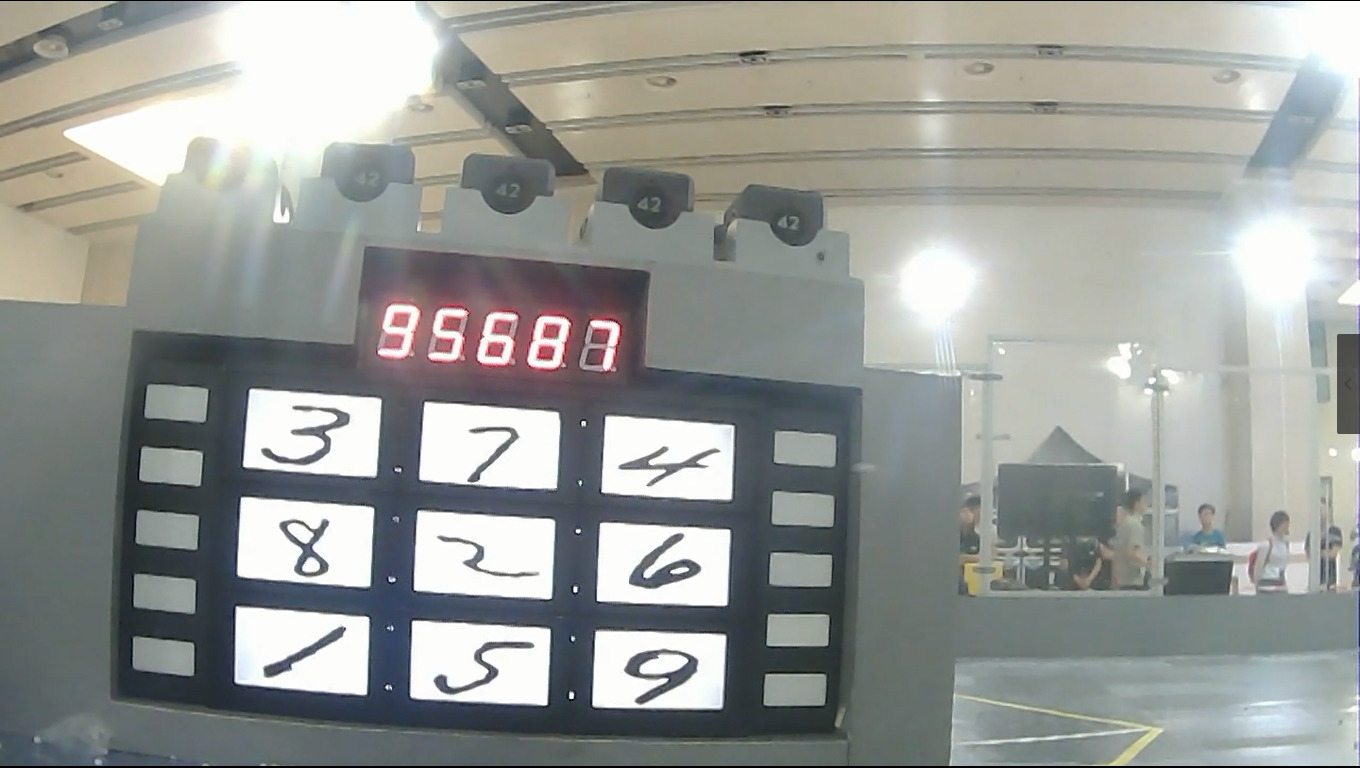box: (583, 162, 713, 239), (168, 135, 286, 211), (718, 182, 842, 254), (443, 151, 563, 222), (321, 138, 422, 209)
